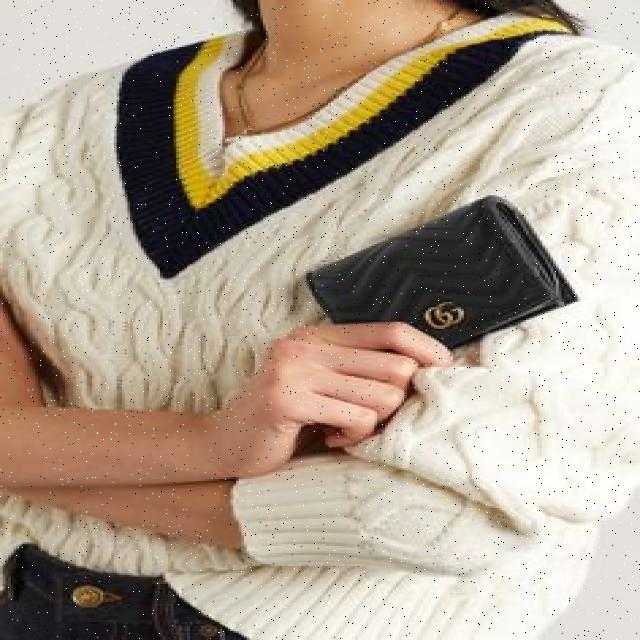handbag: (300, 192, 580, 358)
